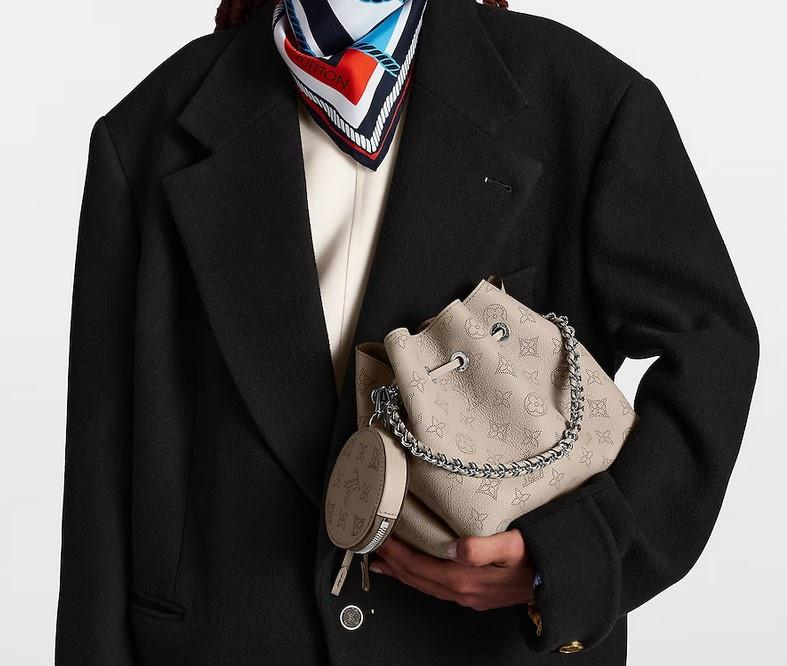LOUIS-VUITTON: (345, 273, 630, 537)
